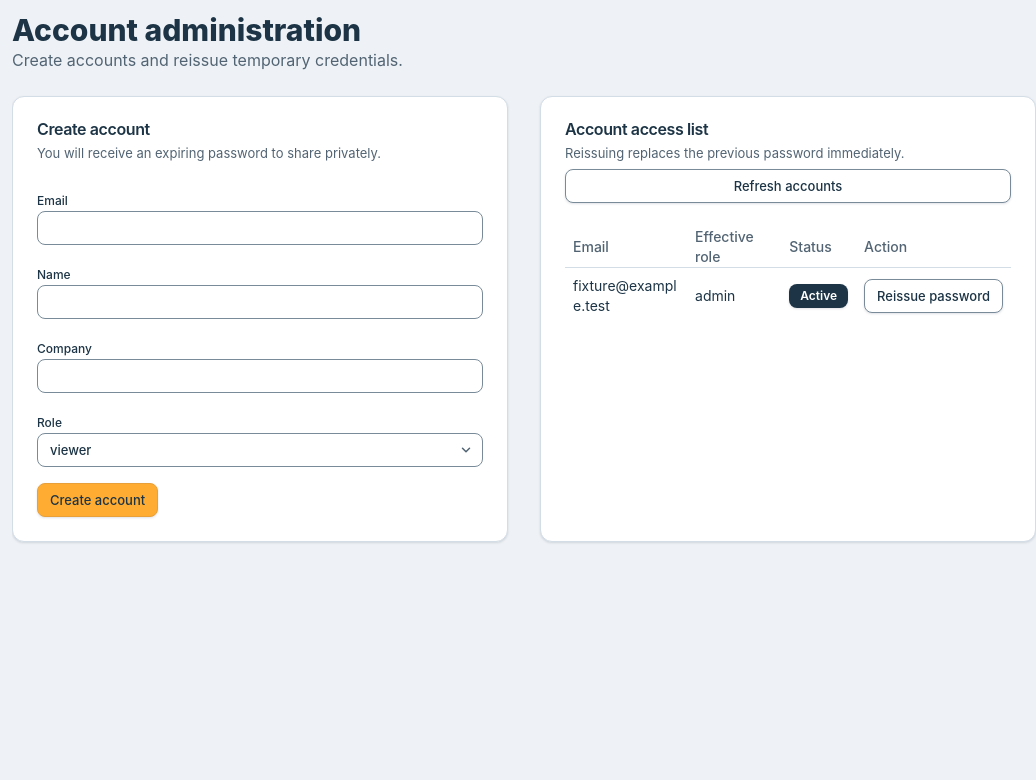
Test case: gives outcome-unknown guidance when reissue loses its response
Step 1. Click the button "Reissue password" → (934, 296), box [864,279,1003,313]
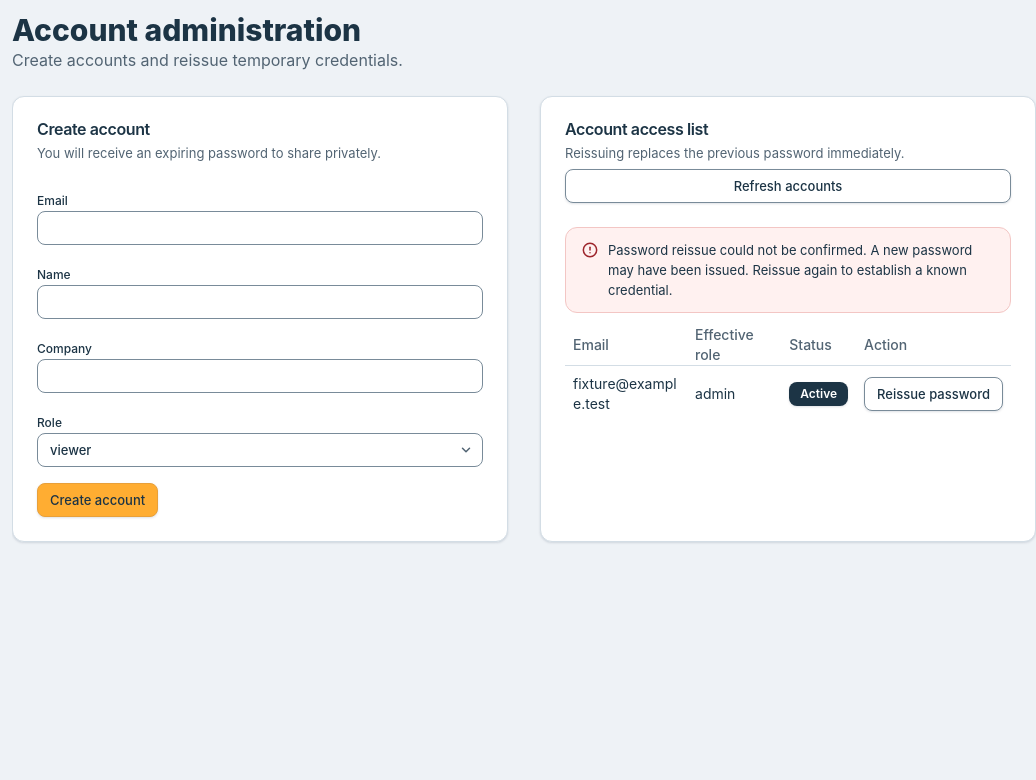
Now the text "A new password may have been issued" is shown, box [608,242,972,298]
